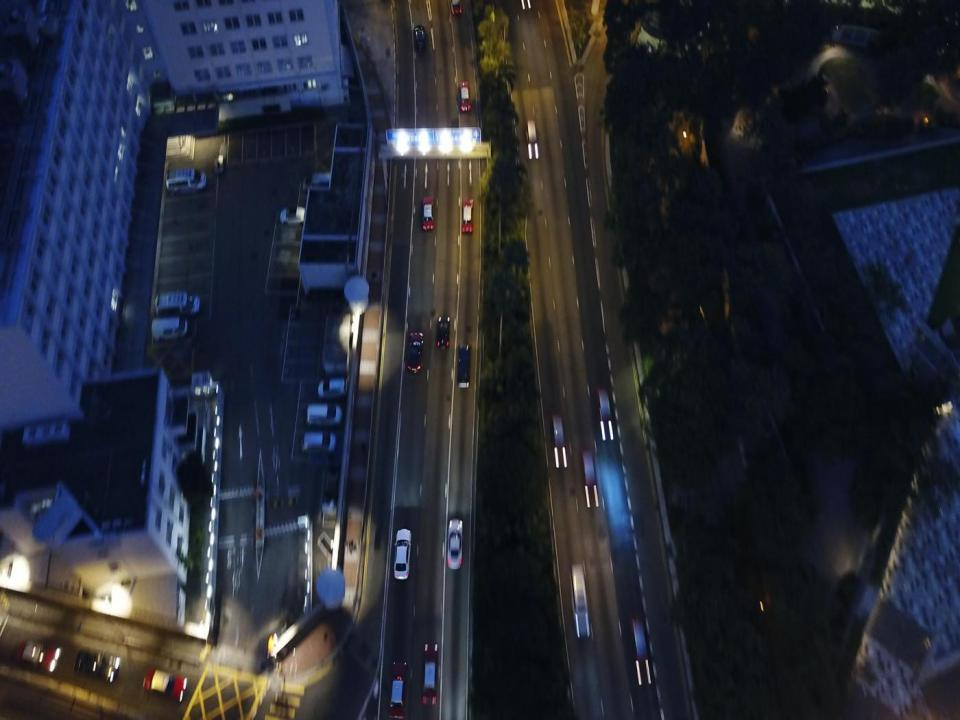car: (627, 615, 653, 685), (142, 666, 187, 701), (74, 650, 120, 682), (16, 642, 60, 672), (580, 449, 599, 507), (549, 413, 569, 468), (594, 386, 614, 440), (422, 644, 438, 704), (393, 529, 412, 579), (389, 663, 405, 719), (446, 519, 463, 568), (408, 332, 423, 372), (457, 344, 470, 388), (437, 316, 451, 349), (462, 198, 473, 233), (422, 197, 433, 231), (458, 81, 470, 112), (414, 26, 426, 55)
van: (569, 563, 591, 636), (154, 291, 198, 315), (166, 168, 206, 190), (306, 404, 341, 425), (152, 319, 187, 338), (302, 432, 335, 452), (526, 120, 540, 160), (318, 378, 348, 396), (280, 205, 306, 224), (451, 0, 462, 16), (520, 0, 533, 11)
